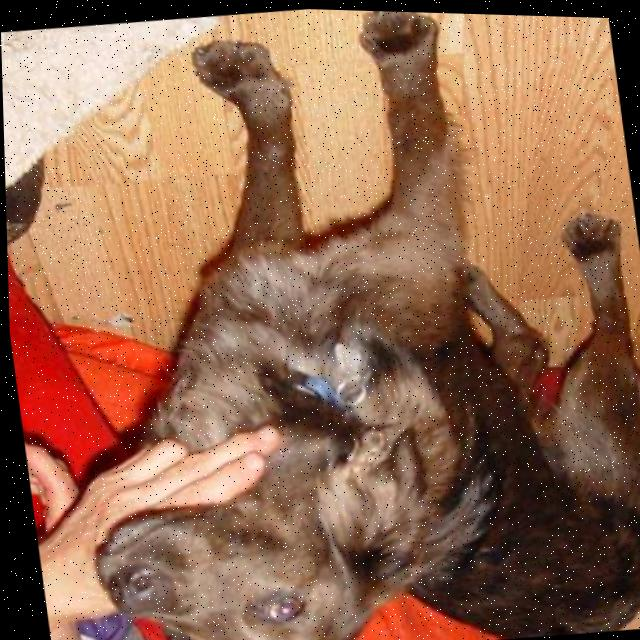dogs: (16, 0, 640, 640)
